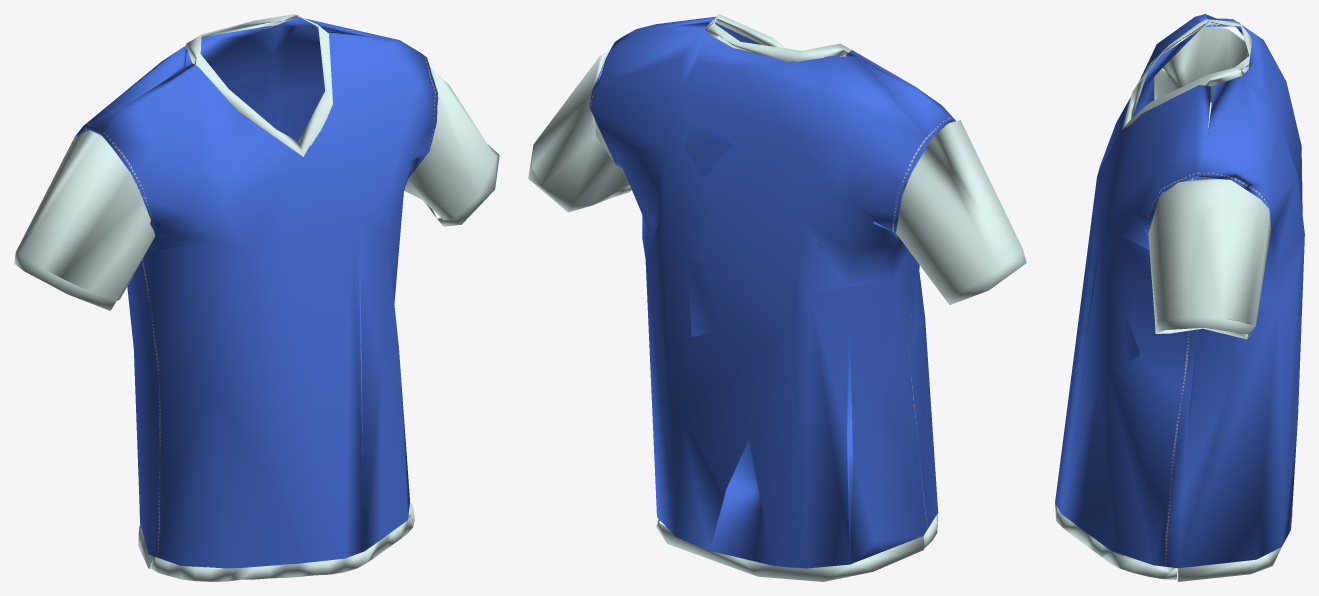
Rendered from camisa.glb.
3 views of the same model, side by side, from view 1: azimuth 30°, elevation 25°; view 2: azimuth 150°, elevation 25°; view 3: azimuth 270°, elevation 25° (orthographic). The views are drawn at different scales.
Parts seen in each view (by area): view 1: 0RetopoMain.004; view 2: 0RetopoMain.004; view 3: 0RetopoMain.004.
Boxes of the visible parts, x1=… form: 0RetopoMain.004: x1=14, y1=14, x2=499, y2=581; 0RetopoMain.004: x1=528, y1=14, x2=1026, y2=581; 0RetopoMain.004: x1=1055, y1=14, x2=1304, y2=581.
Size of the model in its own units: 0.7568 by 0.7598 by 0.3532.
Materials: 1 (1 with a texture image).
